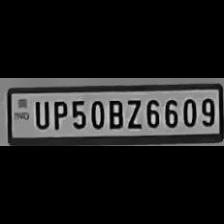0: (86, 97, 106, 129), (180, 94, 198, 126)
5: (67, 98, 87, 130)
6: (143, 96, 161, 128), (161, 95, 179, 127)
9: (198, 94, 216, 126)
B: (104, 97, 124, 129)
P: (48, 98, 68, 130)
U: (30, 97, 50, 129)
Z: (124, 97, 142, 129)
